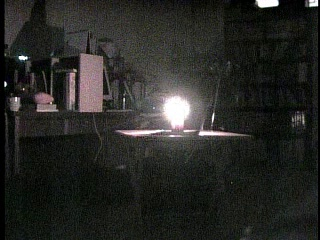fire: (162, 94, 191, 128)
